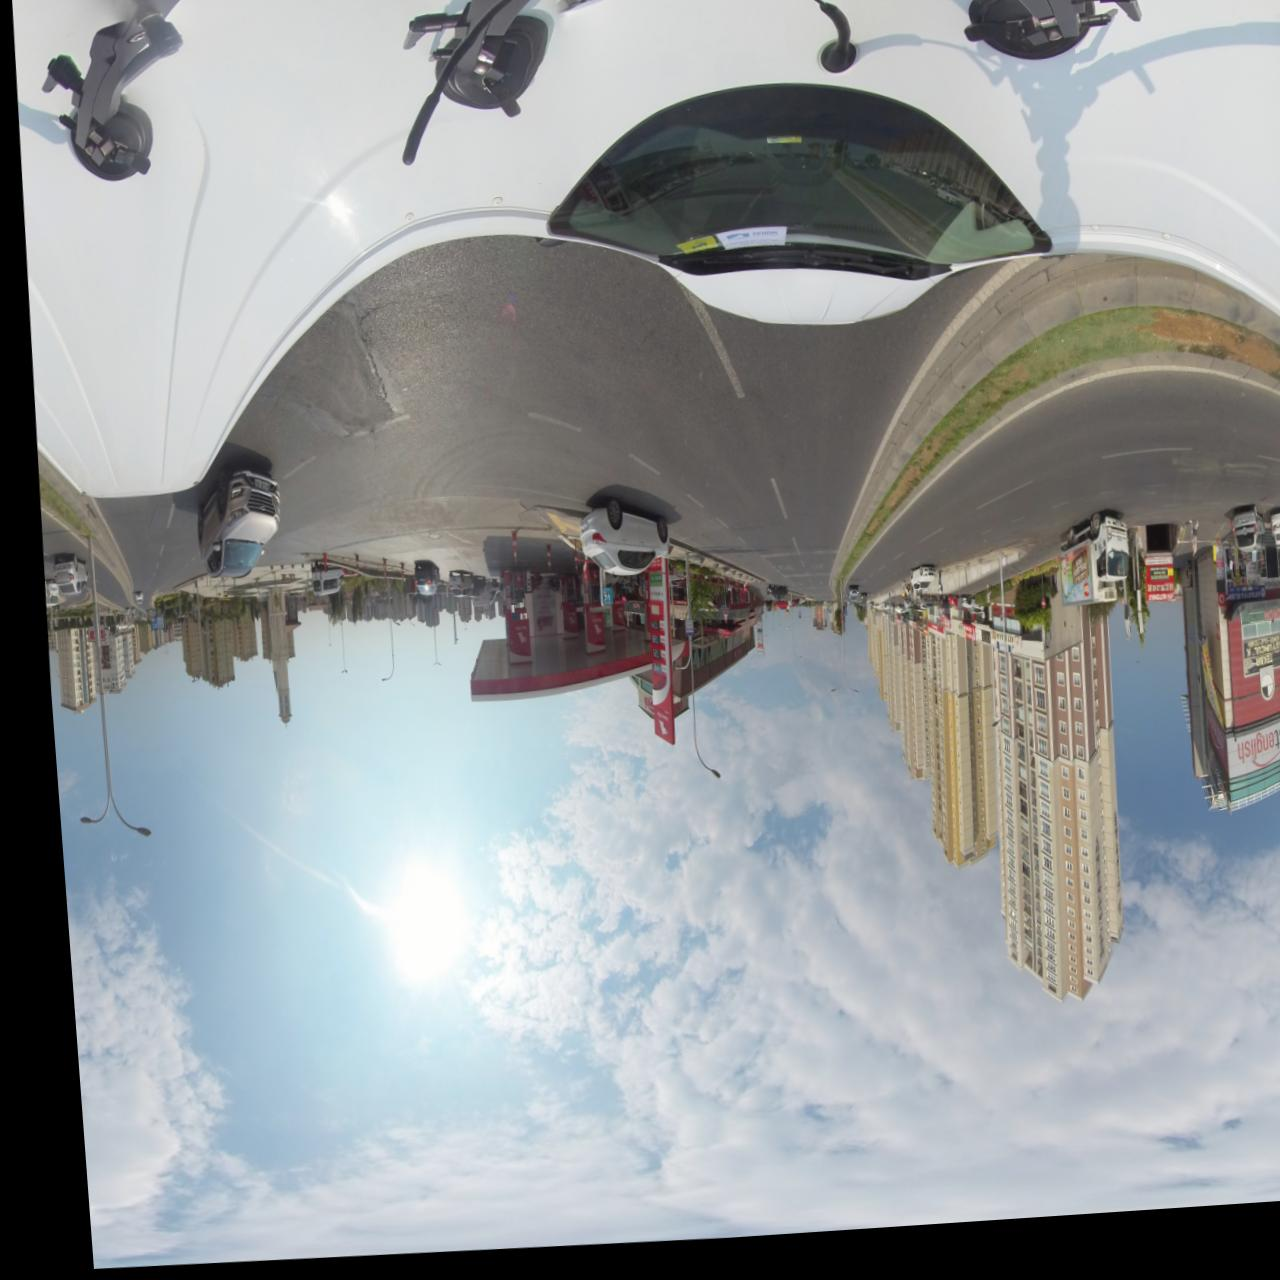SignStore: (1217, 601, 1250, 618), (994, 645, 1009, 661), (939, 631, 952, 647), (980, 642, 992, 656), (954, 638, 964, 653), (969, 642, 979, 655), (918, 634, 927, 644), (933, 632, 938, 641), (912, 640, 915, 647)
